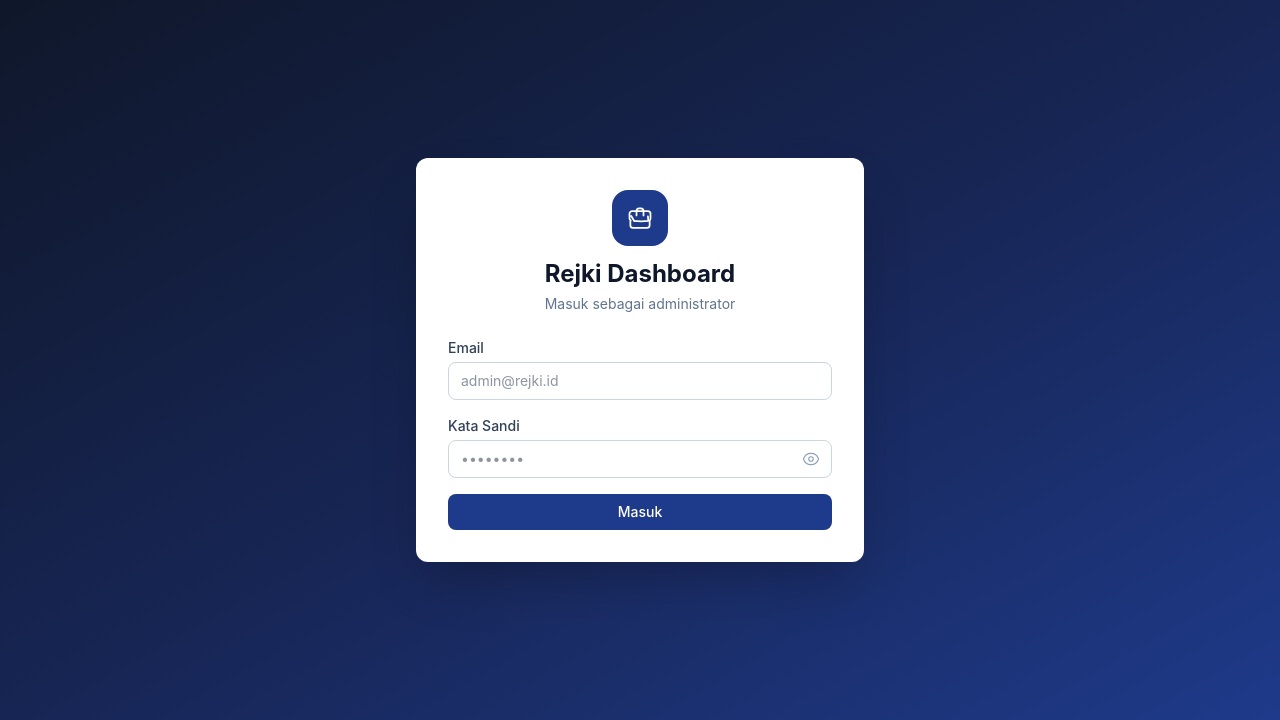
Test: LoginPage › menampilkan pesan generik untuk 401
Type "x@x.id" into the field labelled "Email" at (640, 381), box x1=448 y1=362 x2=832 y2=400
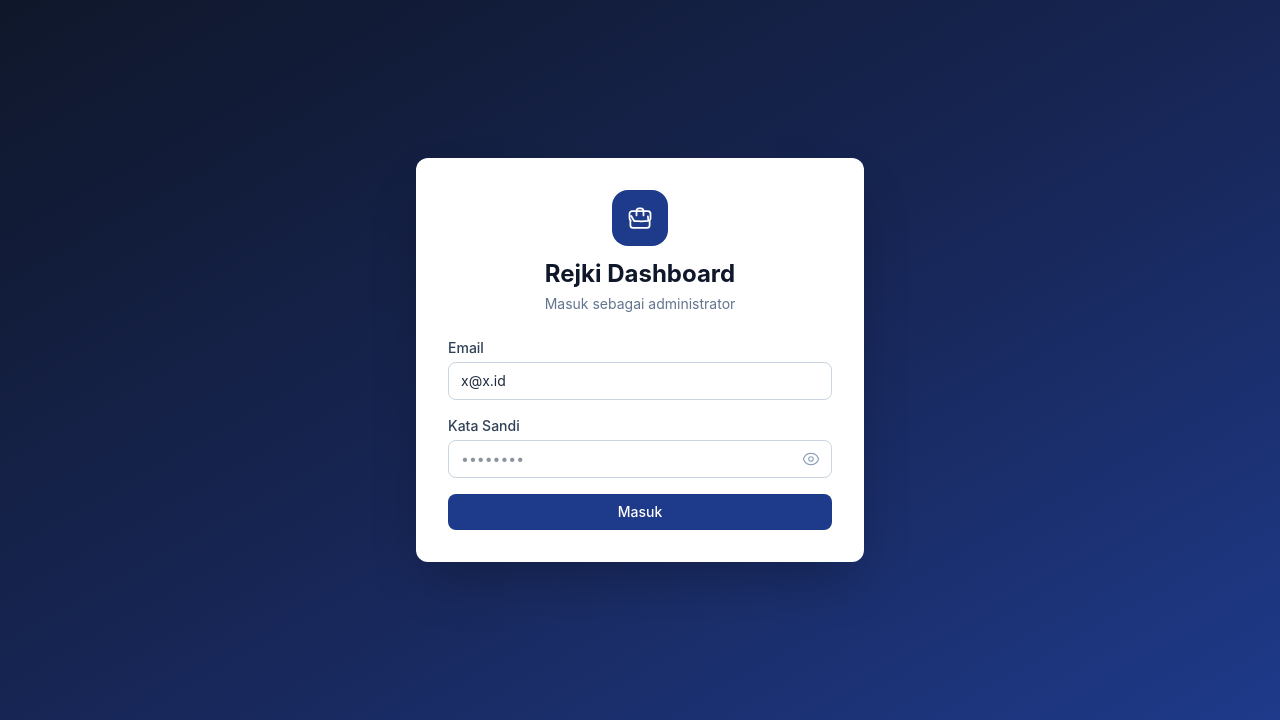
Type "x" into the password field labelled "Kata Sandi" at (640, 459), box x1=448 y1=440 x2=832 y2=478
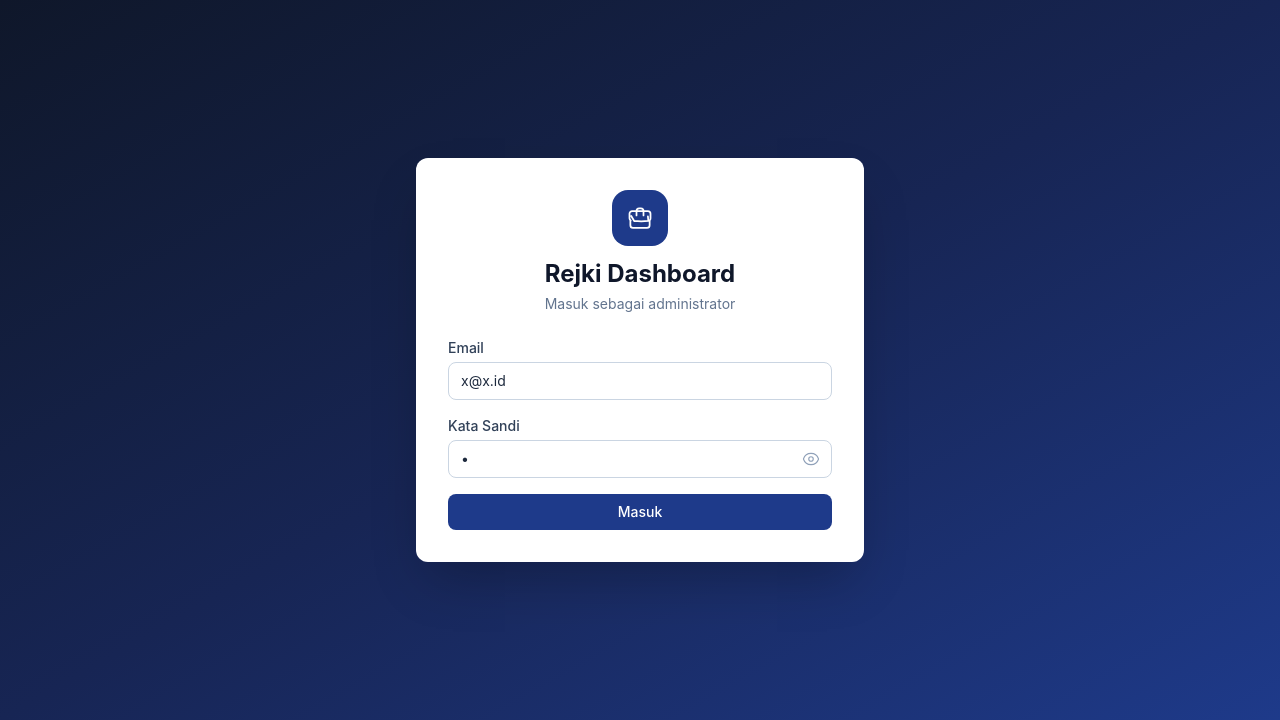
Submit the form, box x1=448 y1=338 x2=832 y2=530
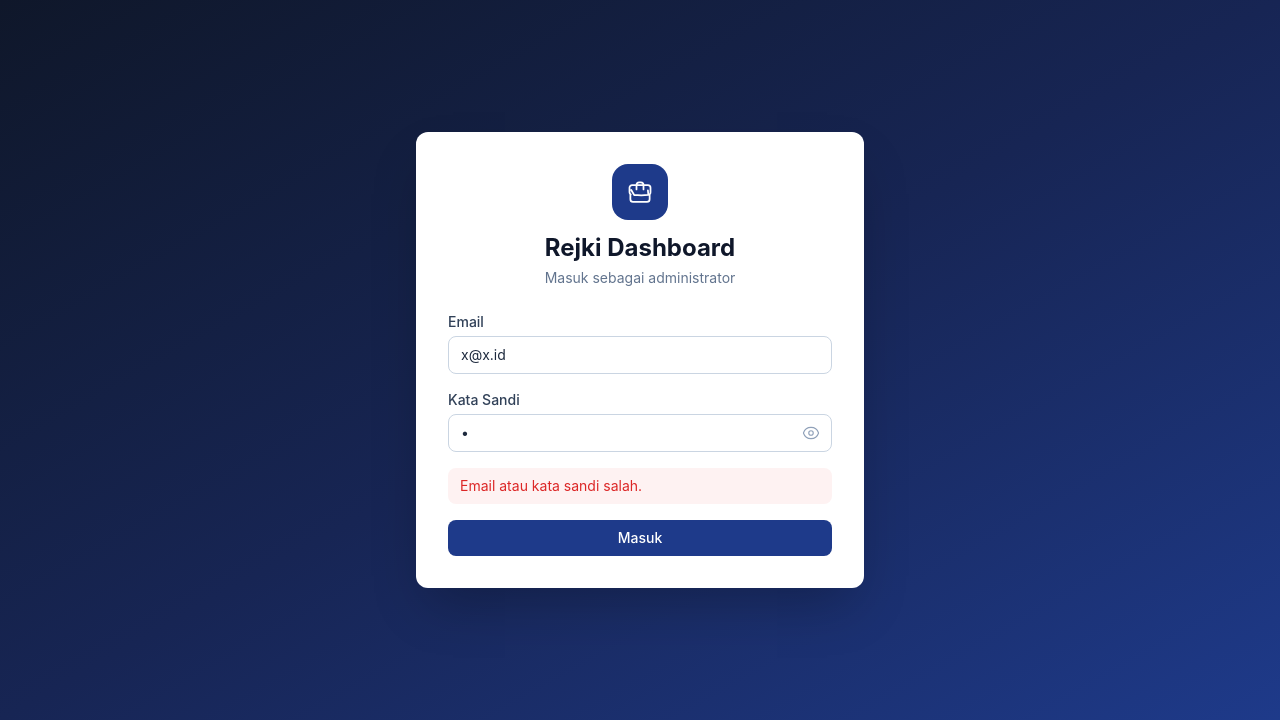
Now the text "Email atau kata sandi salah" is shown, box x1=460 y1=477 x2=642 y2=494
